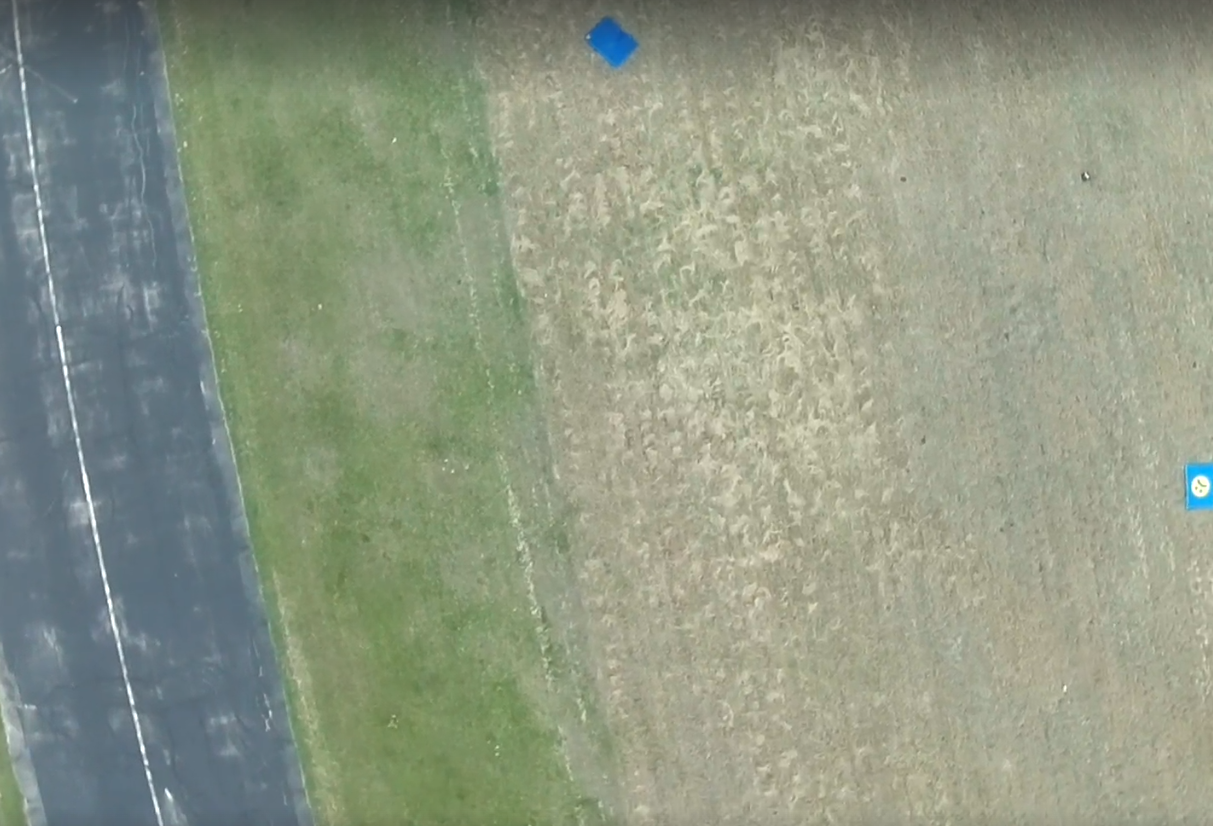CRT: (1188, 472, 1211, 497)
TOI: (580, 15, 640, 68), (1184, 461, 1213, 509)
